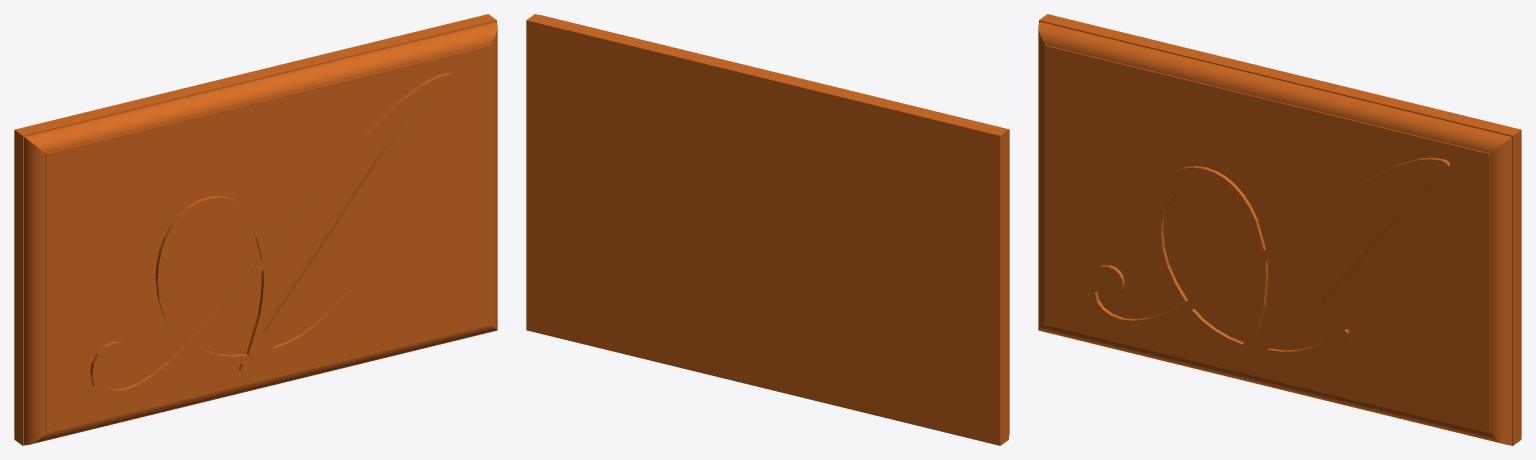
Rendered from 2_lid__material_0_24.obj.
3 views of the same model, side by side, from view 1: azimuth 30°, elevation 25°; view 2: azimuth 150°, elevation 25°; view 3: azimuth 330°, elevation 25° (orthographic).
Parts seen in each view (by area): view 1: 2_lid__material_0_24; view 2: 2_lid__material_0_24; view 3: 2_lid__material_0_24.
Part boxes in pixels (<box>): 2_lid__material_0_24: <box>14,14,497,445</box>; 2_lid__material_0_24: <box>526,14,1009,445</box>; 2_lid__material_0_24: <box>1038,14,1521,445</box>.
Size of the model in its own units: 0.25 by 0.1562 by 0.0176.
